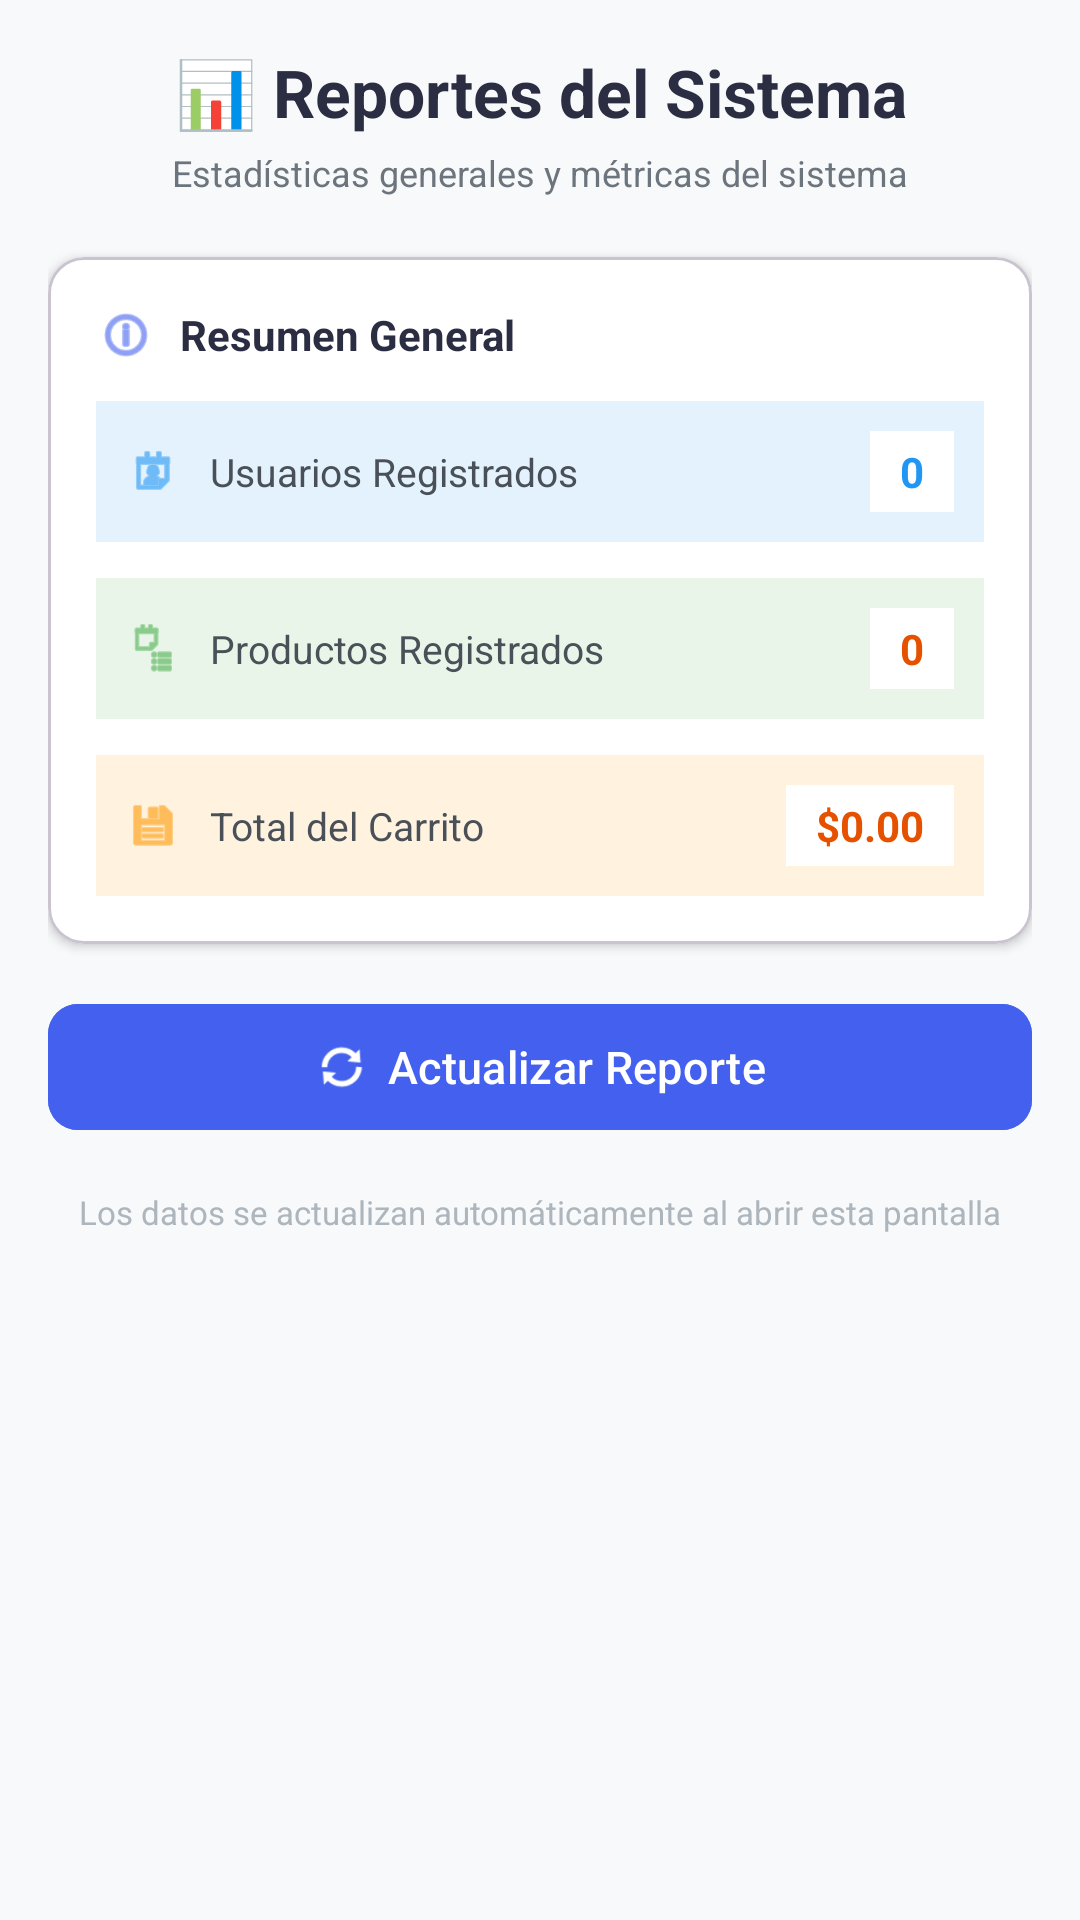

Icons on this 1080*1920 Android screen, each with its box as (x1, y1, x2, y2):
agenda: (134, 624, 172, 672)
calendar: (135, 451, 171, 490)
info details: (104, 313, 148, 357)
save: (133, 805, 173, 846)
